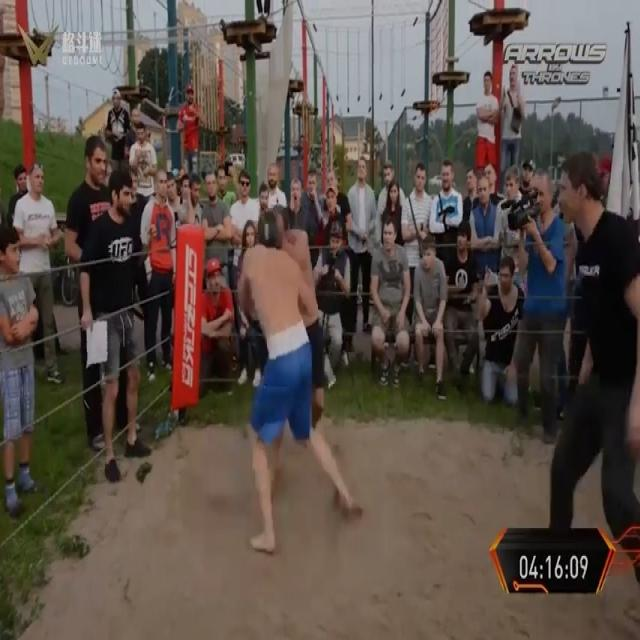fight: (230, 207, 360, 560)
non-fight: (511, 143, 639, 629), (70, 135, 144, 481), (515, 168, 571, 444), (11, 158, 64, 382), (345, 157, 376, 335)
